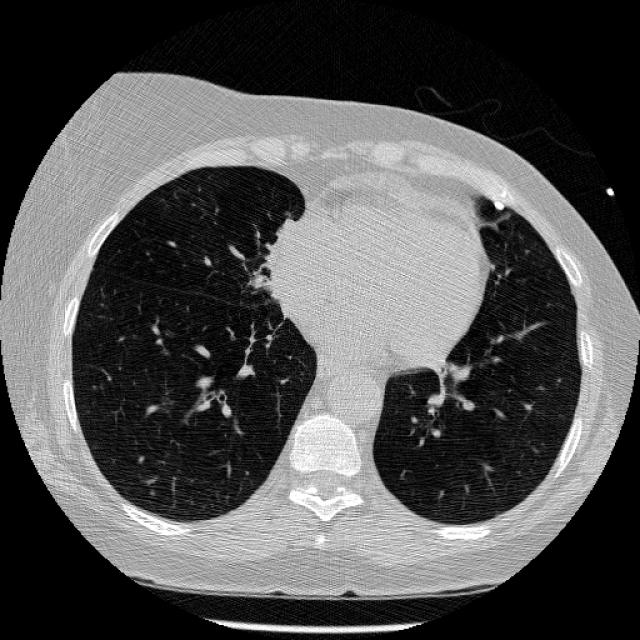nodule: (485, 192, 510, 216)
